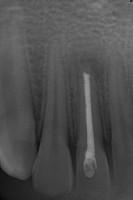Furcation Involvement: (77, 53, 107, 84)
